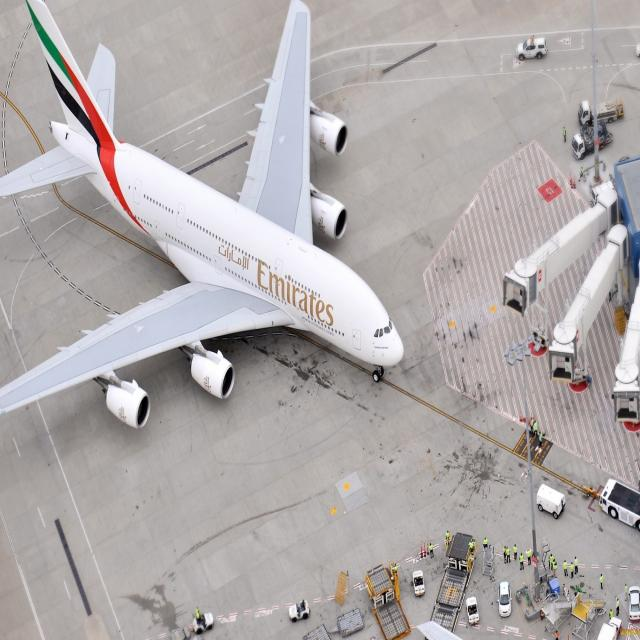plain: (5, 0, 431, 431)
